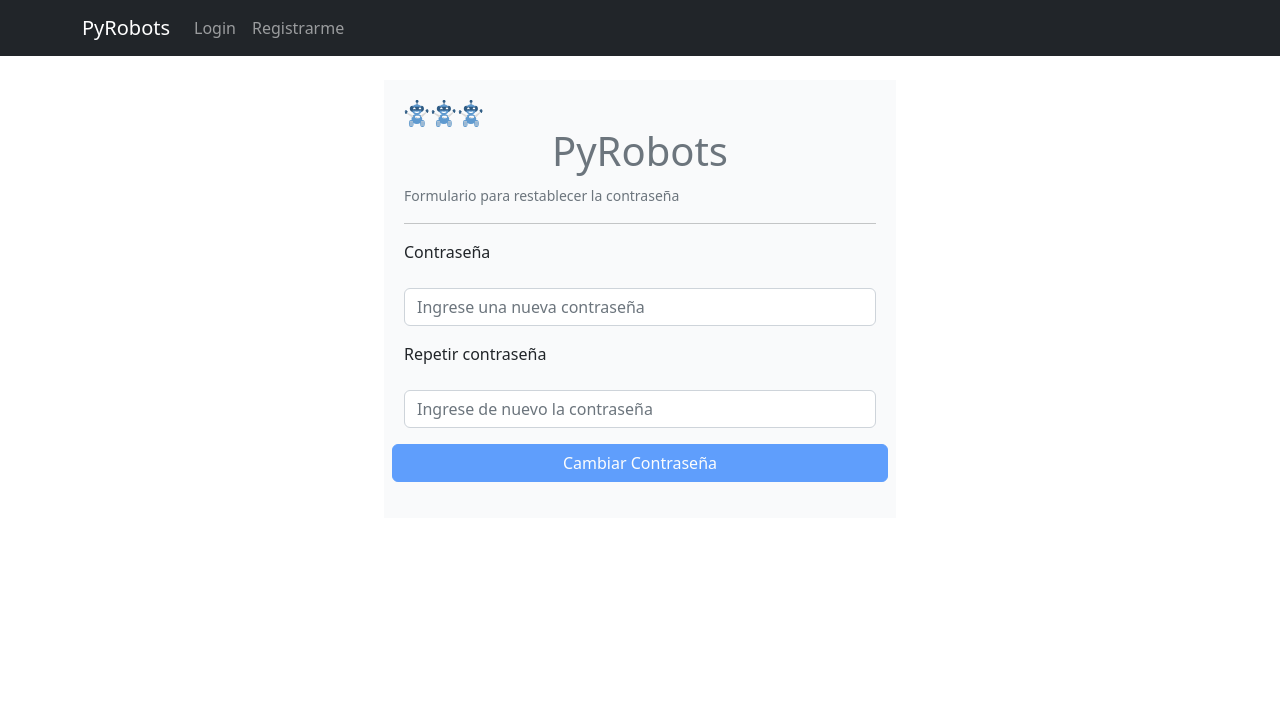
Scenario: debe avisar error en formacion de password
The width and height of the screenshot is (1280, 720).
Type "abcde1234" into the password field with placeholder "Ingrese una nueva contraseña" at (640, 307), box [404,288,876,326]
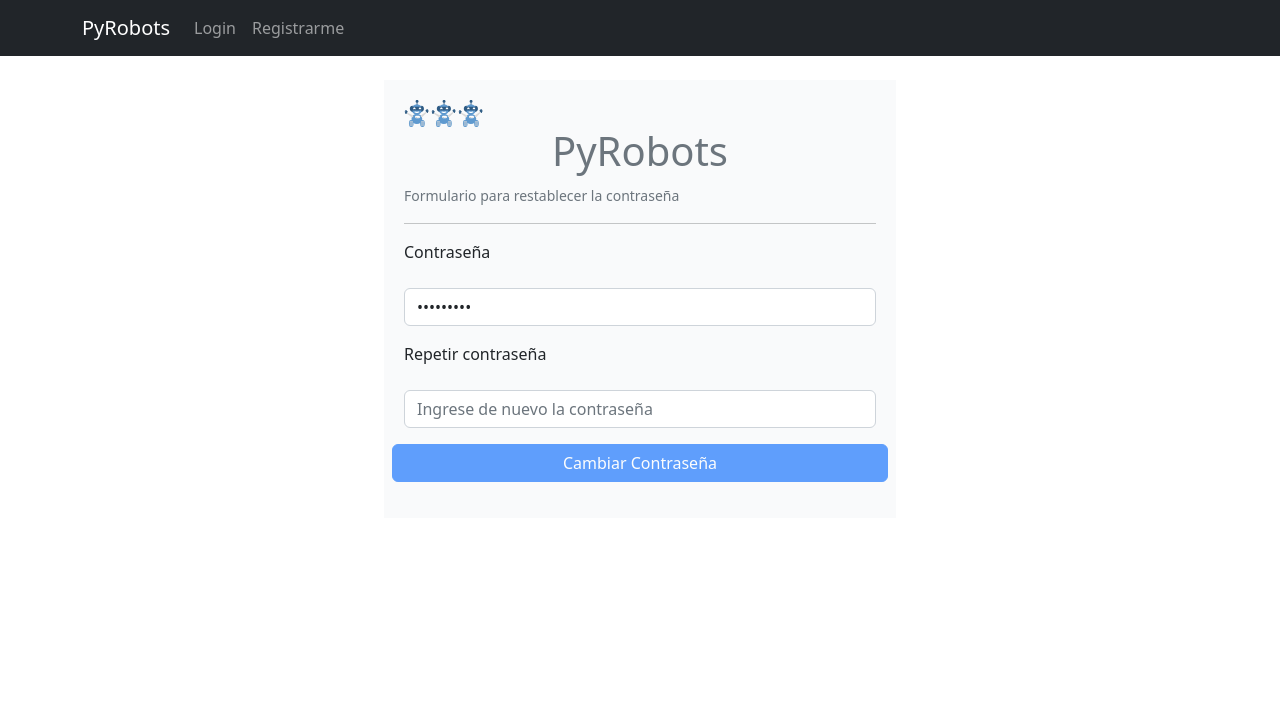
Type "abcde1234" into the password field with placeholder "Ingrese de nuevo la contraseña" at (640, 409), box [404,390,876,428]
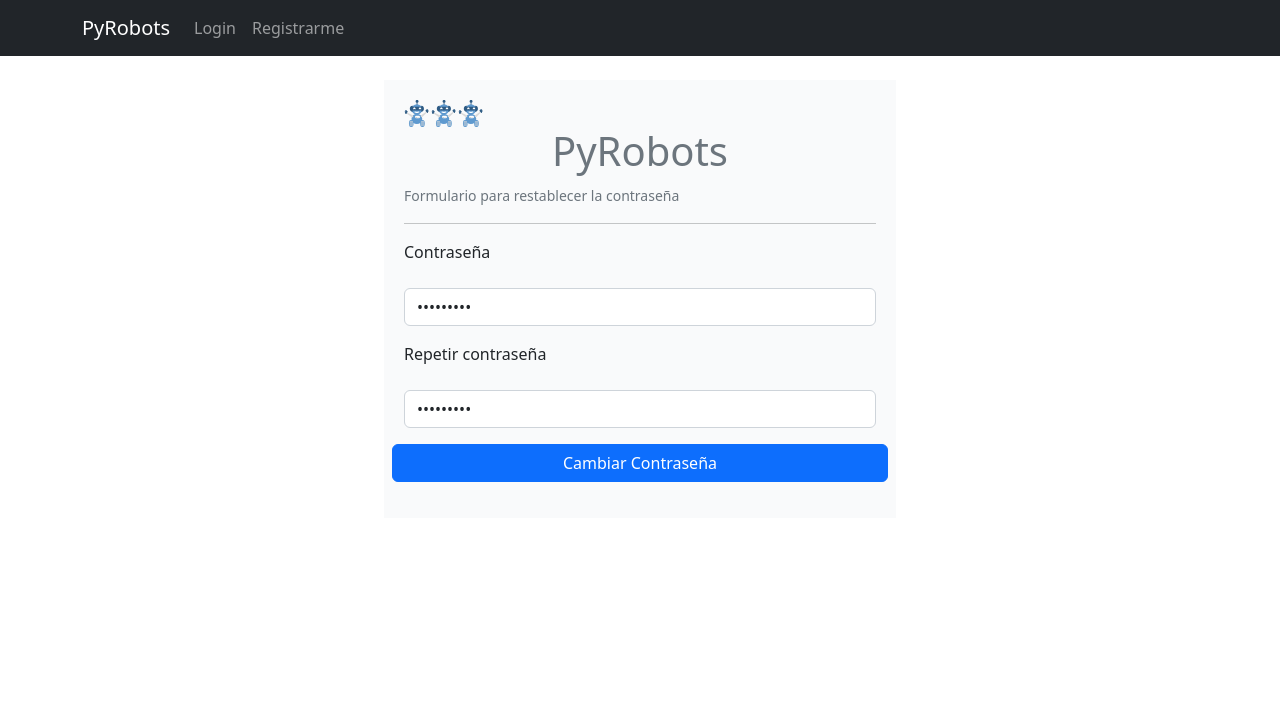
Click the button with test id "test-button-recover" at (640, 463), box [392,444,888,482]
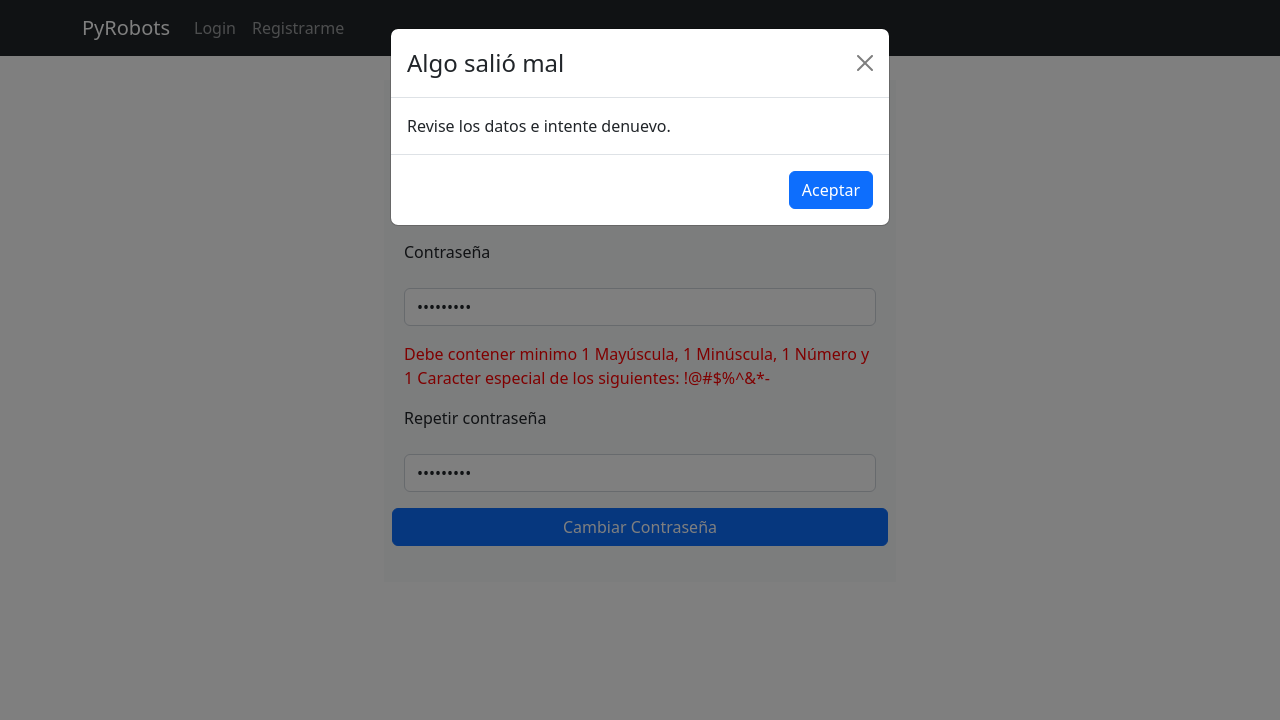
Check: the text "Debe contener minimo 1 Mayúscula, 1 Minúscula, 1 Número y 1 Caracter especial de los siguientes: !@#$%^&*-" is shown, box [404,343,869,389]
